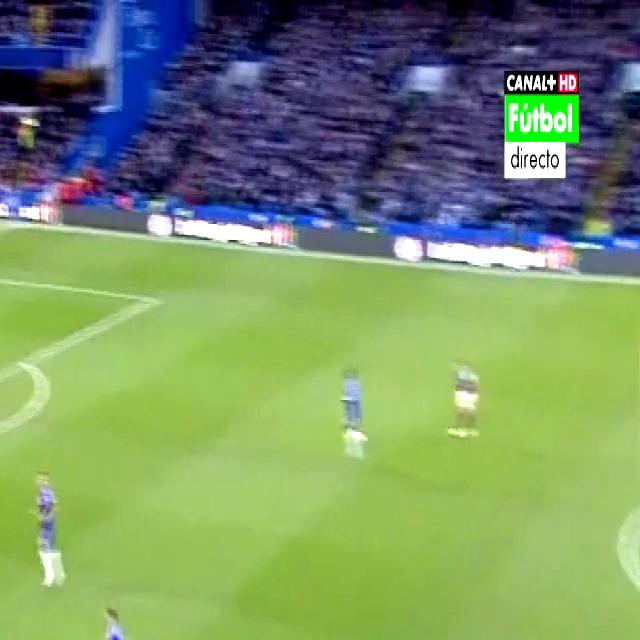soccer-player: (26, 456, 74, 607), (444, 341, 493, 455), (330, 344, 374, 468), (82, 595, 154, 640)
